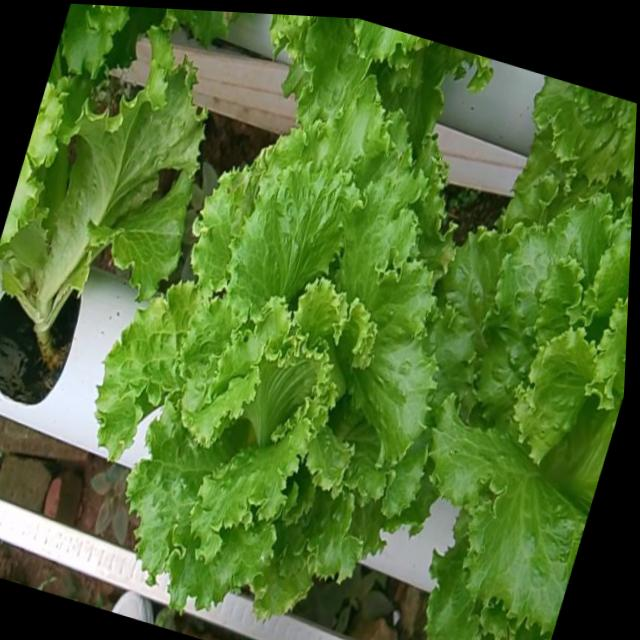Mature: (100, 104, 458, 620), (432, 199, 631, 640)
